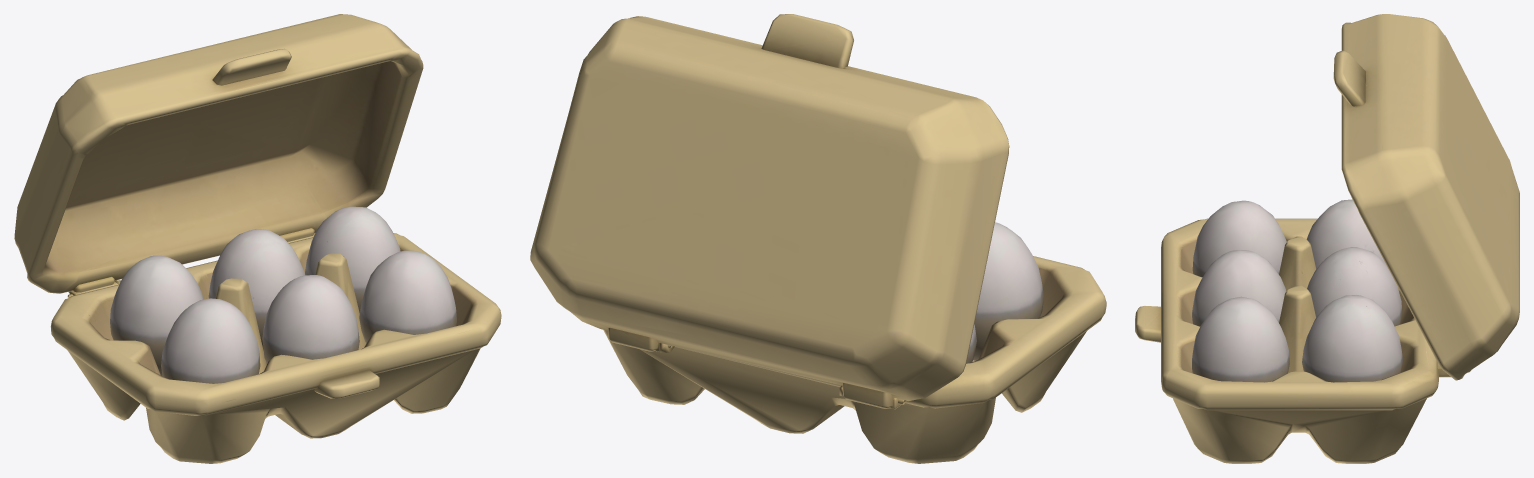
The model's file is eggs.glb.
3 views of the same model, side by side, from view 1: azimuth 30°, elevation 25°; view 2: azimuth 150°, elevation 25°; view 3: azimuth 270°, elevation 25° (orthographic). The views are drawn at different scales.
Visible parts, largest first — view 1: Eggs; view 2: Eggs; view 3: Eggs.
Part boxes in pixels (x1,y1,x2,y2): Eggs: (14,14,501,463); Eggs: (530,14,1106,463); Eggs: (1135,14,1519,463).
Bounding box in the file's own units: 0.998 × 0.8848 × 0.9277.
1 material, 1 textured.
